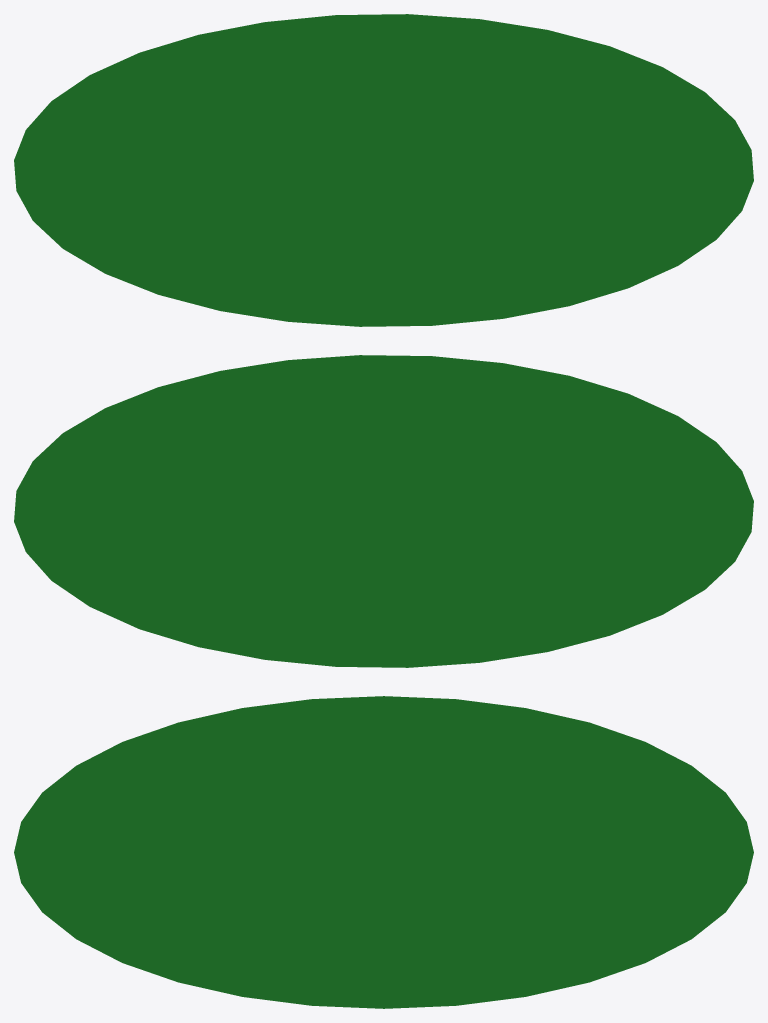
Rendered from Grass.fbx.
The picture shows the model from 3 angles, top to bottom: view 1: azimuth 30°, elevation 25°; view 2: azimuth 150°, elevation 25°; view 3: azimuth 270°, elevation 25°; orthographic projection.
Parts seen in each view (by area): view 1: Grass2, Grass1; view 2: Grass2, Grass1; view 3: Grass2, Grass1.
Part boxes in pixels (left/top/right/bottom): Grass2: left=111, top=46, right=636, bottom=268; Grass1: left=14, top=14, right=753, bottom=326; Grass2: left=99, top=409, right=626, bottom=632; Grass1: left=14, top=355, right=753, bottom=667; Grass2: left=151, top=743, right=677, bottom=966; Grass1: left=14, top=696, right=753, bottom=1008.
Bounding box in the file's own units: 154 × 0.0317 × 154.
